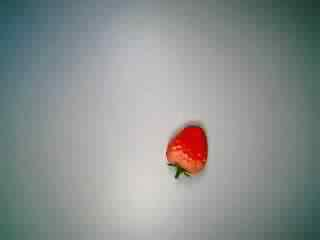strawberry: (146, 117, 219, 181)
